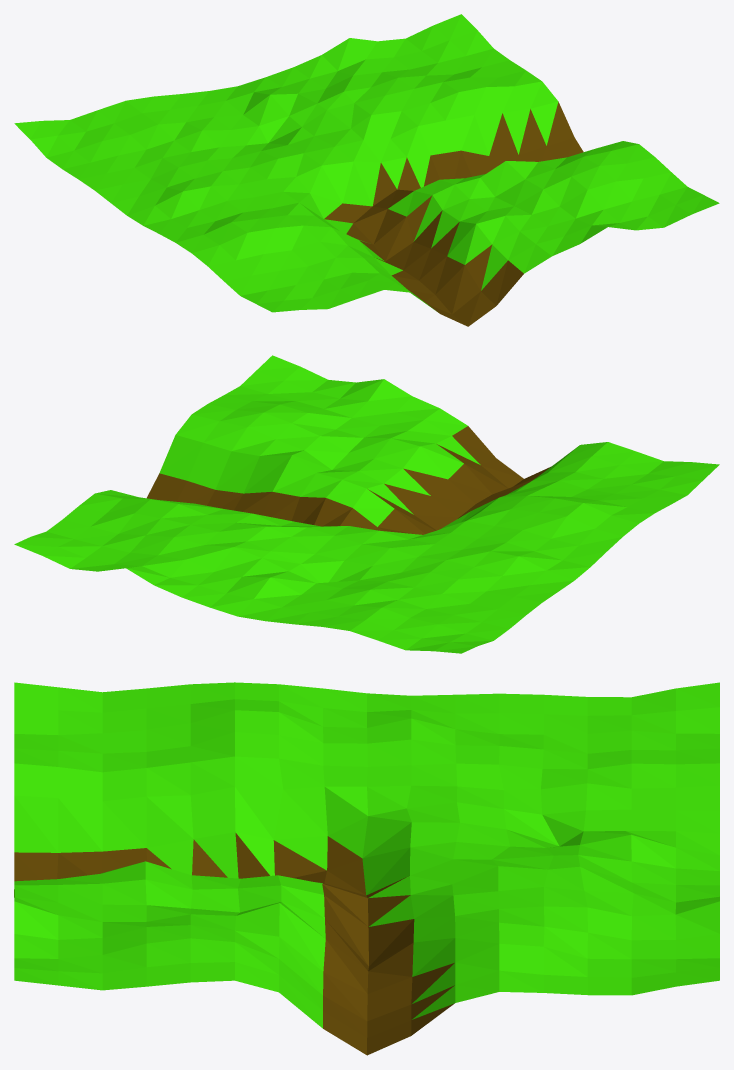
The model's file is oja_left_top_corner.fbx.
3 views of the same model, one above another, from view 1: azimuth 30°, elevation 25°; view 2: azimuth 150°, elevation 25°; view 3: azimuth 270°, elevation 25° (orthographic). The views are drawn at different scales.
Visible parts, largest first — view 1: oja_Left_Top_Corner; view 2: oja_Left_Top_Corner; view 3: oja_Left_Top_Corner.
Part boxes in pixels (left/top/right/bottom): oja_Left_Top_Corner: left=14, top=14, right=719, bottom=326; oja_Left_Top_Corner: left=14, top=355, right=719, bottom=653; oja_Left_Top_Corner: left=14, top=682, right=719, bottom=1055.
Bounding box in the file's own units: 2000 × 295 × 2001.
